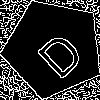D: (28, 23, 87, 81)
